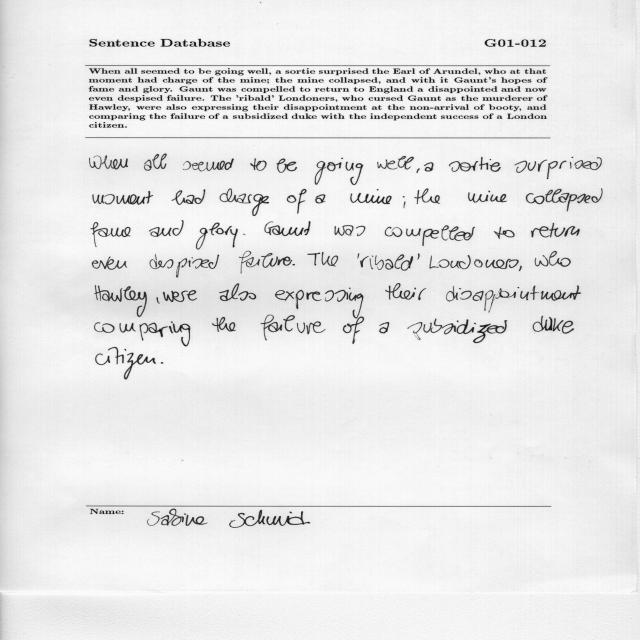word: (446, 286, 581, 313), (275, 288, 363, 319), (95, 322, 191, 347), (408, 319, 508, 343), (95, 347, 156, 380), (514, 157, 602, 179), (385, 225, 475, 246), (526, 189, 602, 212), (95, 285, 147, 317), (150, 254, 219, 278), (261, 315, 326, 340), (220, 189, 269, 216), (315, 158, 363, 185), (429, 255, 519, 269), (239, 252, 295, 274), (196, 223, 238, 250), (91, 222, 131, 247), (360, 254, 413, 271), (93, 191, 153, 205), (449, 157, 501, 172), (533, 316, 574, 334), (531, 223, 580, 238), (385, 284, 426, 301), (265, 221, 311, 236), (220, 283, 257, 301), (183, 159, 234, 172), (350, 189, 392, 204), (149, 220, 184, 237), (343, 316, 364, 344), (89, 155, 128, 170), (535, 251, 571, 267), (172, 189, 206, 205), (92, 256, 127, 270), (377, 156, 414, 169), (287, 189, 306, 214), (468, 191, 507, 203), (163, 290, 197, 302), (144, 154, 167, 171), (415, 189, 441, 204), (212, 317, 236, 332), (335, 225, 366, 236), (276, 158, 297, 173), (494, 227, 515, 239), (322, 252, 339, 266), (250, 158, 267, 171), (308, 253, 321, 266), (380, 322, 390, 333), (315, 195, 326, 204), (424, 163, 433, 172), (403, 196, 406, 208), (156, 297, 160, 304), (416, 168, 420, 173), (417, 254, 420, 260), (519, 266, 522, 271), (358, 253, 360, 259), (161, 362, 163, 364), (243, 234, 246, 235)
